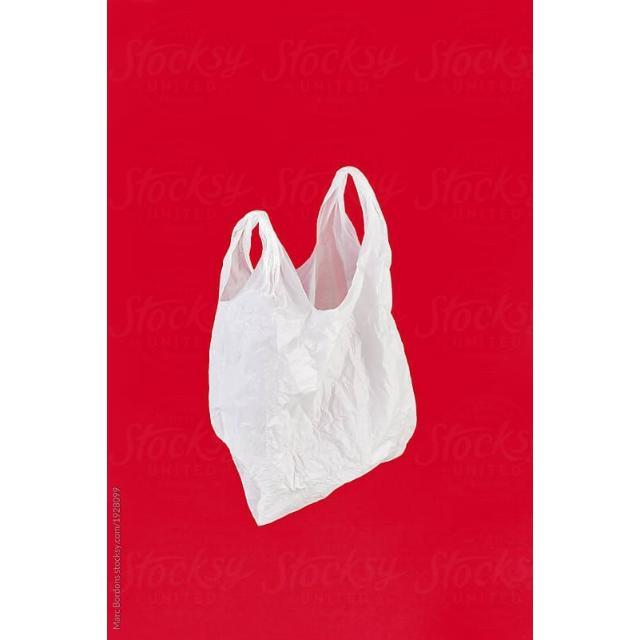plastic: (209, 167, 415, 525)
